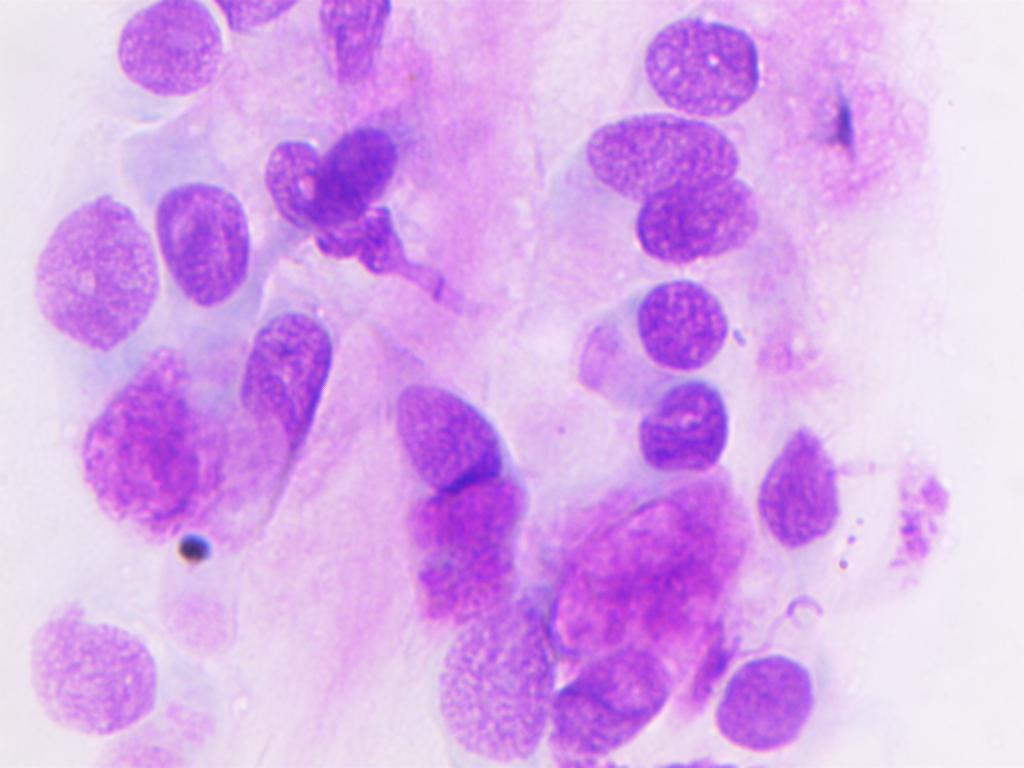artifact: (559, 454, 752, 660), (873, 443, 980, 598), (292, 0, 411, 100)
epithelial: (66, 343, 218, 546), (5, 603, 184, 745), (27, 192, 157, 356), (229, 307, 359, 471), (424, 607, 551, 764), (603, 176, 776, 274), (557, 644, 688, 767), (707, 633, 826, 767), (739, 419, 857, 553), (571, 279, 733, 374), (585, 375, 747, 470), (151, 171, 257, 315), (628, 16, 767, 124), (570, 113, 740, 199), (109, 0, 233, 113), (297, 114, 403, 230)
goblet_cell: (383, 373, 534, 611)
